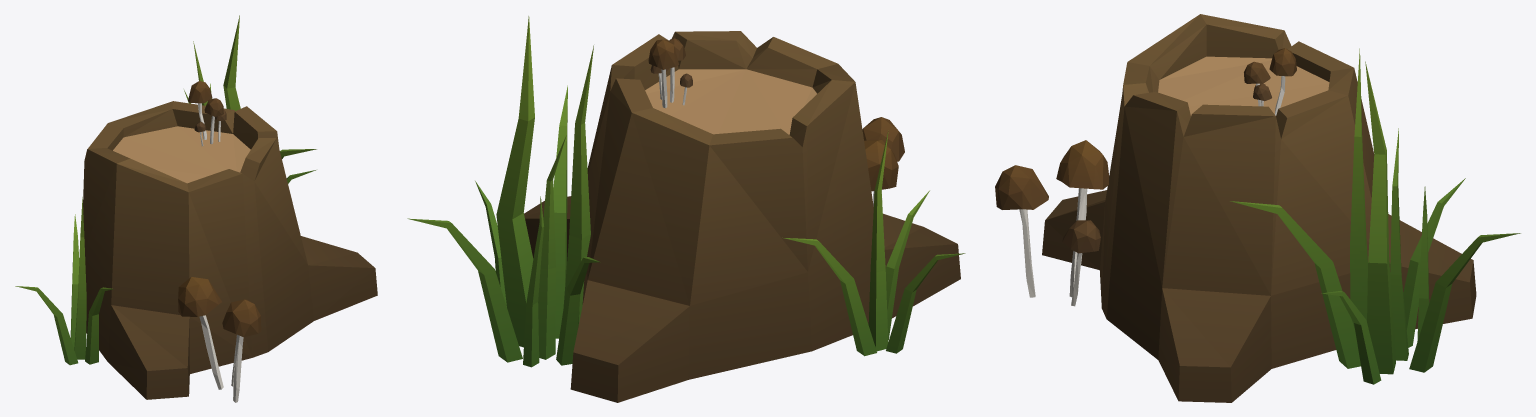
The model's file is Stump_03.fbx.
3 renders of one model, left to right at view 1: azimuth 30°, elevation 25°; view 2: azimuth 150°, elevation 25°; view 3: azimuth 270°, elevation 25°, orthographic. The views are drawn at different scales.
Visible parts, largest first — view 1: Stump_03; view 2: Stump_03; view 3: Stump_03.
Part boxes in pixels (x1,y1,x2,y2): Stump_03: (15,15,377,402); Stump_03: (407,16,965,402); Stump_03: (995,14,1520,402).
Bounding box in the file's own units: 0.8936 × 0.6276 × 0.9335.
